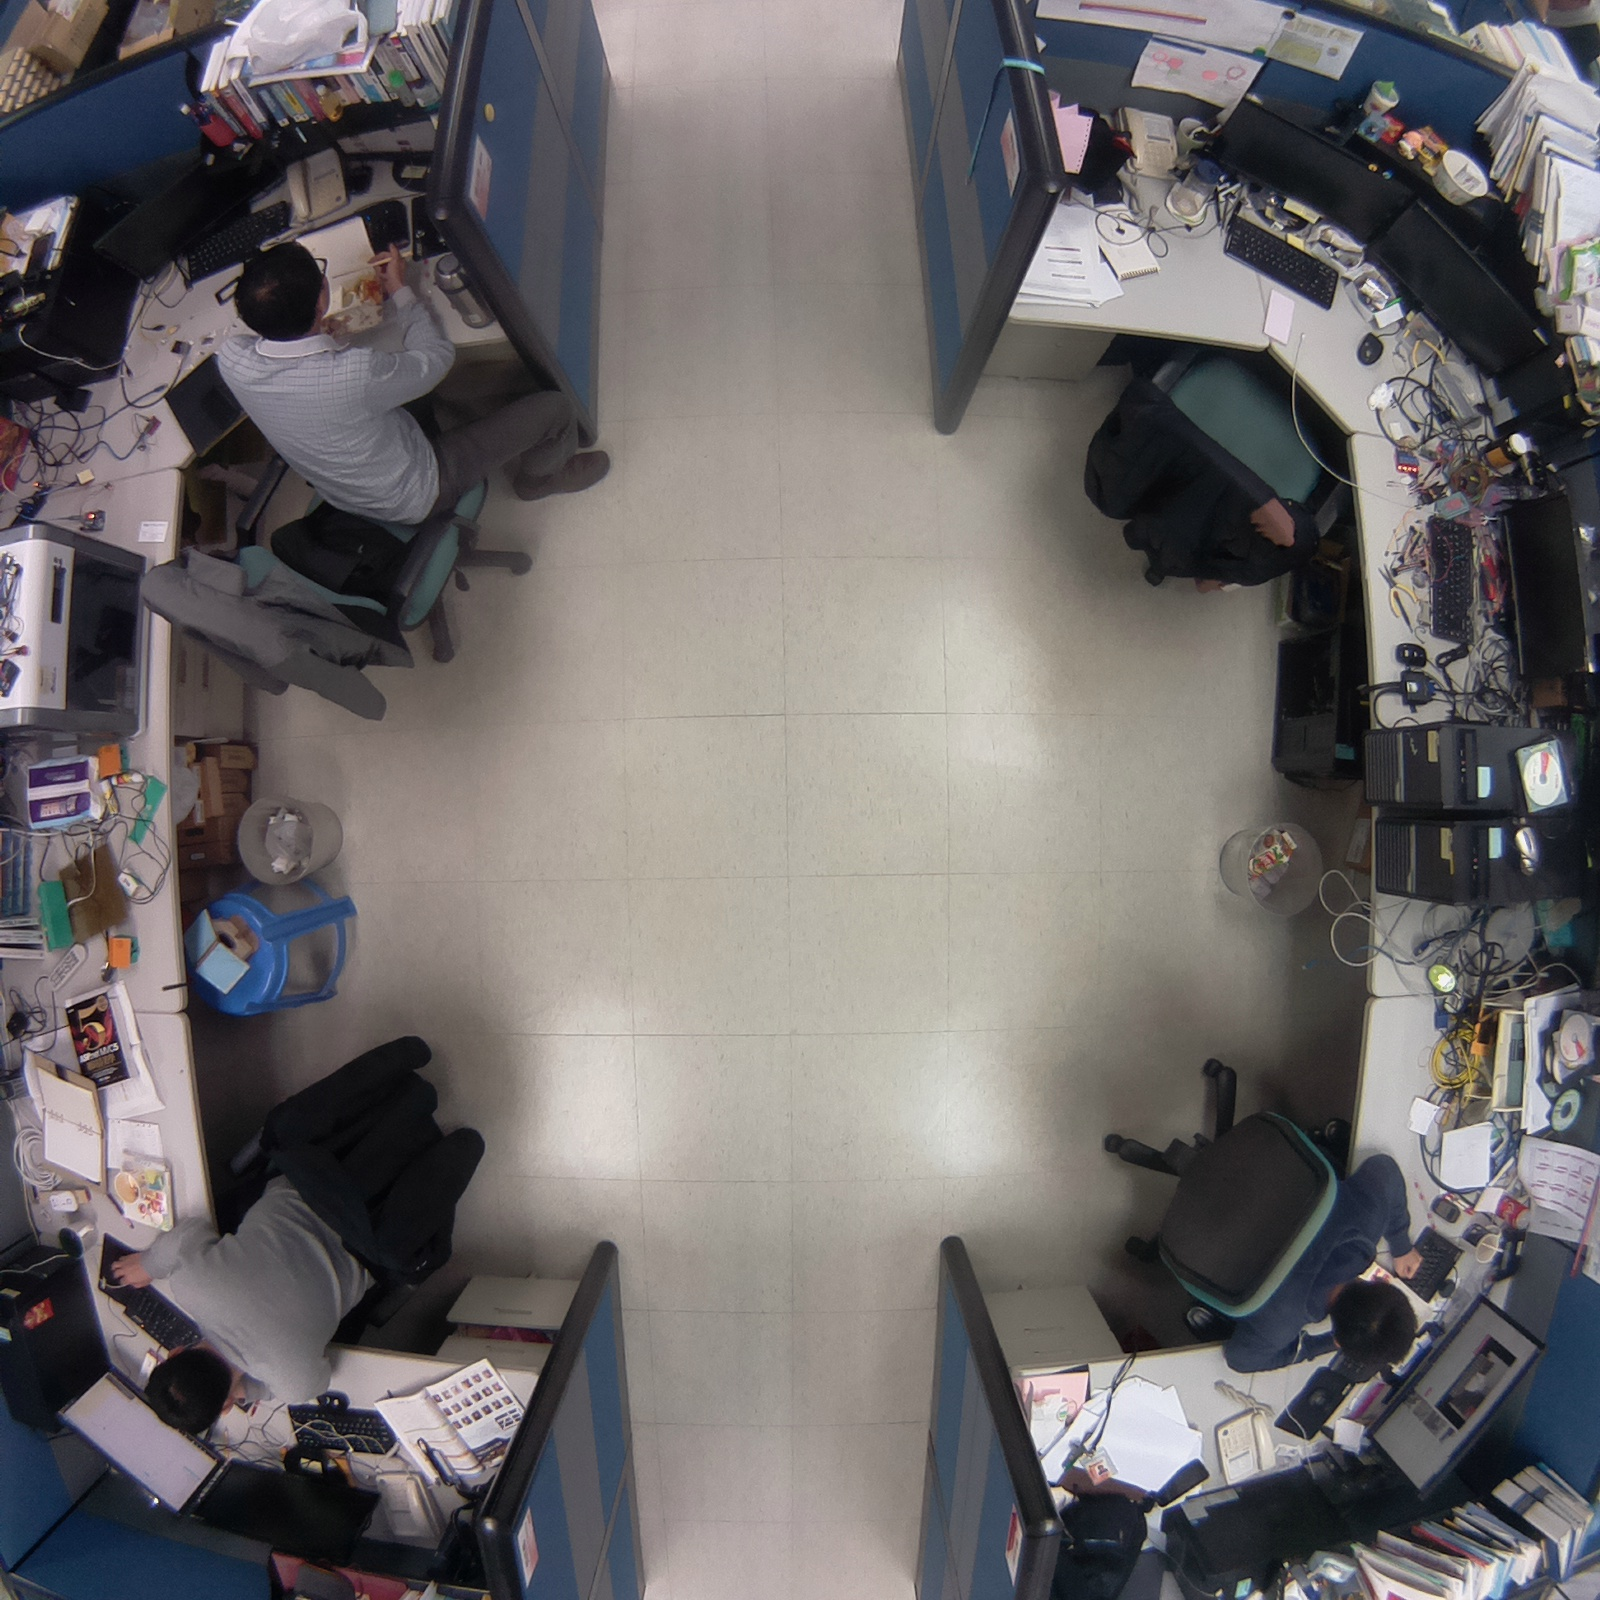chair: (1073, 315, 1368, 607)
sitting: (119, 223, 634, 738), (86, 1029, 500, 1448), (1089, 1045, 1452, 1388)
